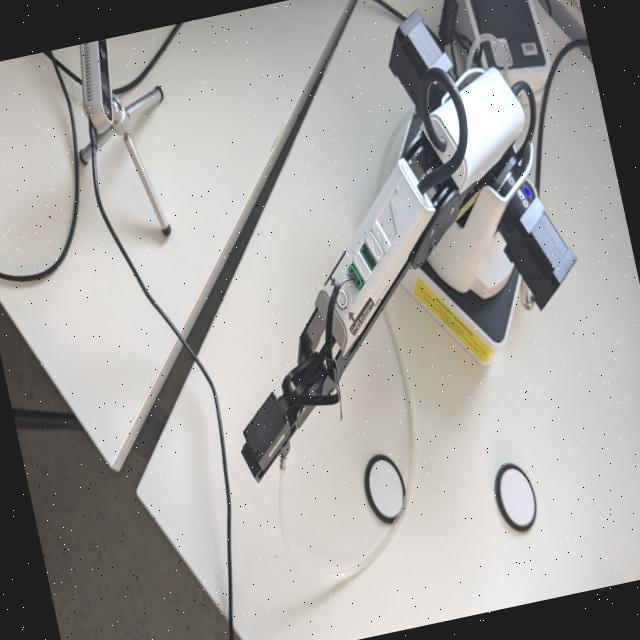Robot-end-effector-HF8z: (228, 386, 302, 489)
